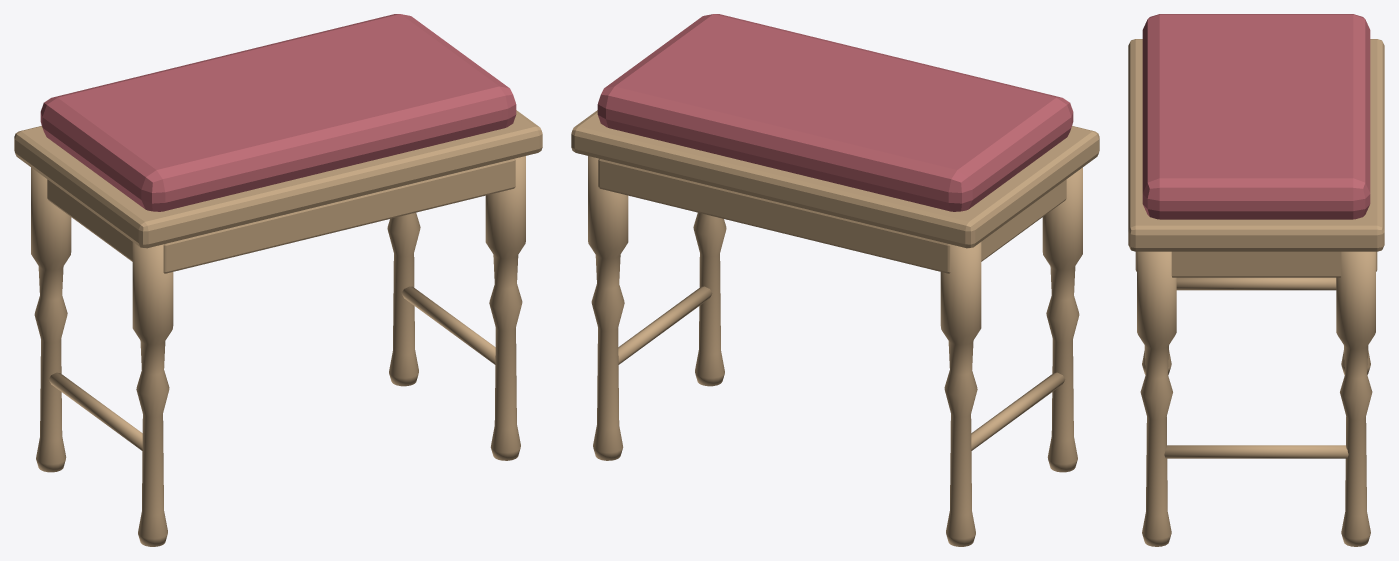
Rendered from stool.glb.
3 views of the same model, side by side, from view 1: azimuth 30°, elevation 25°; view 2: azimuth 150°, elevation 25°; view 3: azimuth 270°, elevation 25° (orthographic). The views are drawn at different scales.
Visible parts, largest first — view 1: stool; view 2: stool; view 3: stool.
Boxes of the visible parts, x1,y1,x2,y2 form: stool: (14,14,542,546); stool: (571,14,1099,546); stool: (1128,14,1384,546).
Size of the model in its own units: 1.6 by 1.4 by 0.9.
